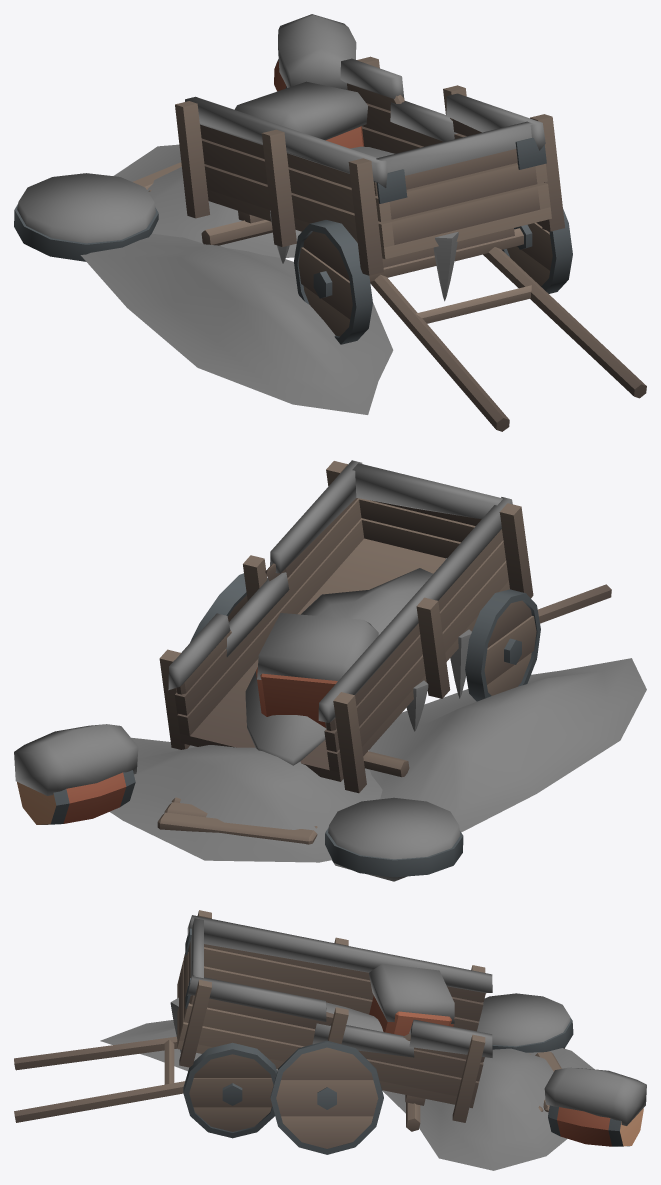
The model's file is cart_frozen_B_lavender.fbx.
3 renders of one model, top to bottom at view 1: azimuth 30°, elevation 25°; view 2: azimuth 150°, elevation 25°; view 3: azimuth 270°, elevation 25°, orthographic. The views are drawn at different scales.
Parts seen in each view (by area): view 1: cart_frozen_B_lavender; view 2: cart_frozen_B_lavender; view 3: cart_frozen_B_lavender.
Part boxes in pixels (x1,y1,x2,y2): cart_frozen_B_lavender: (14,14,646,431); cart_frozen_B_lavender: (14,460,646,881); cart_frozen_B_lavender: (14,910,646,1170).
Bounding box in the file's own units: 2.01 × 0.9257 × 3.35.
